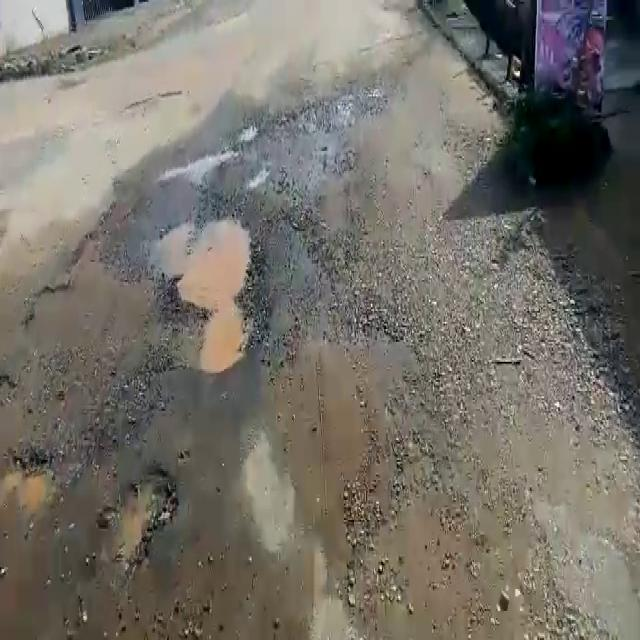Pothole: (147, 206, 253, 370), (98, 462, 176, 586)
